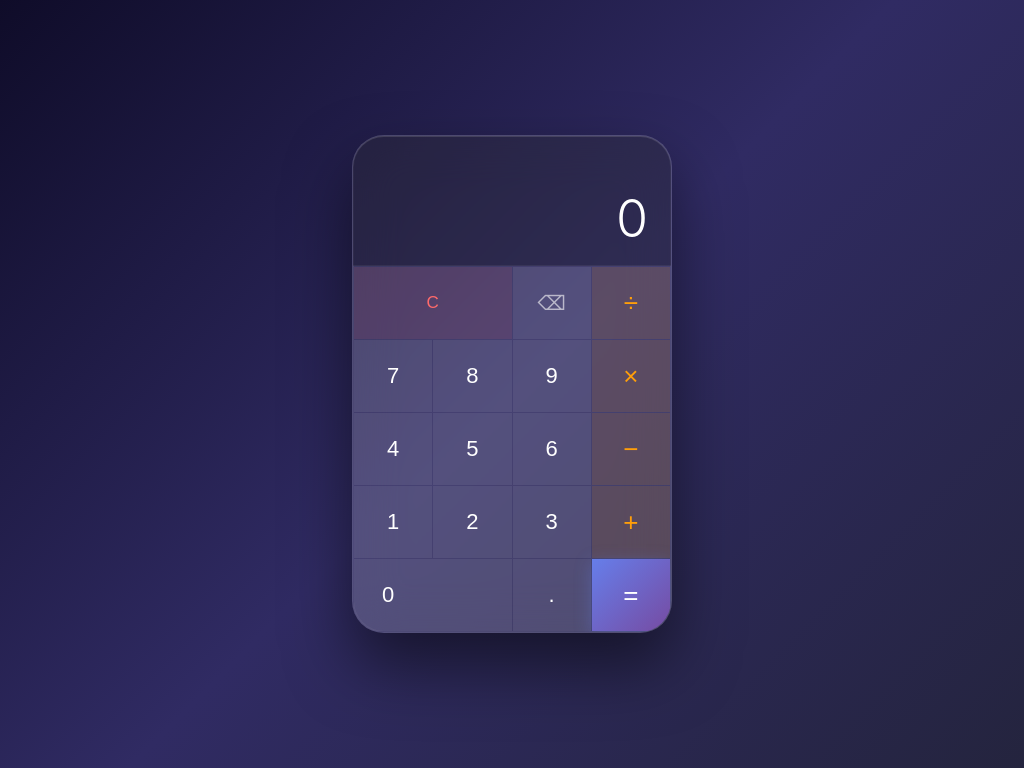
Test: [INV-1] 0 나누기 방어 — UI 레벨 › 에러 후 C를 누르면 초기화된다
Click the button "1": (393, 522) x1=354 y1=486 x2=432 y2=558
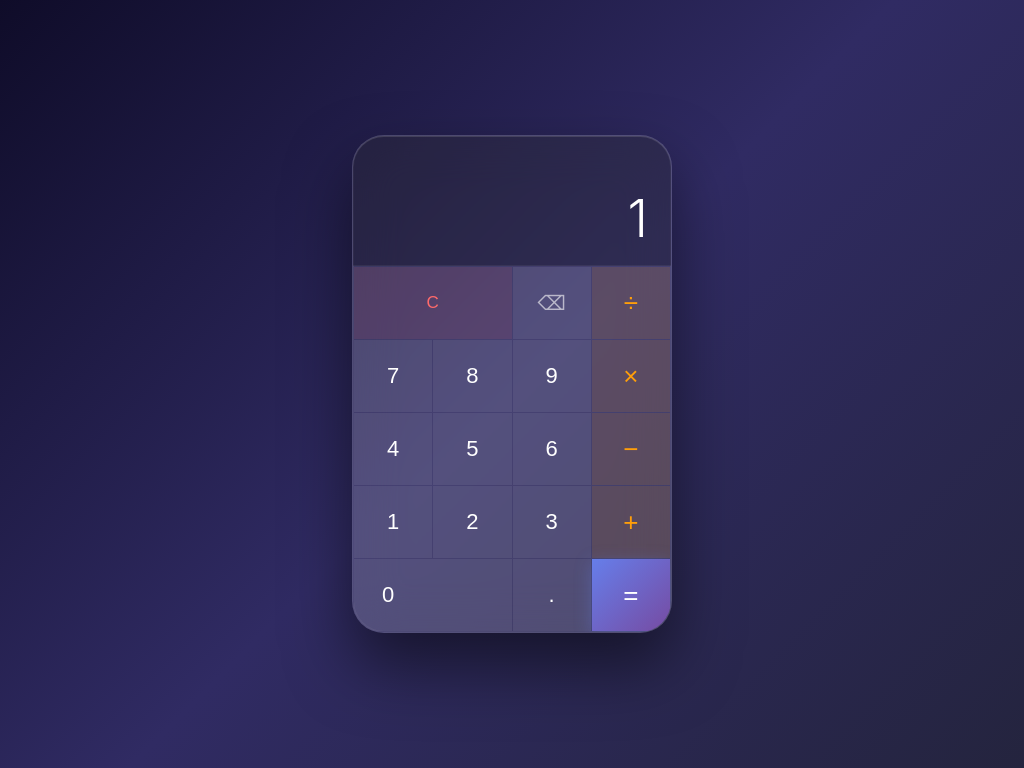
Click the button "÷": (631, 303) x1=592 y1=267 x2=670 y2=339
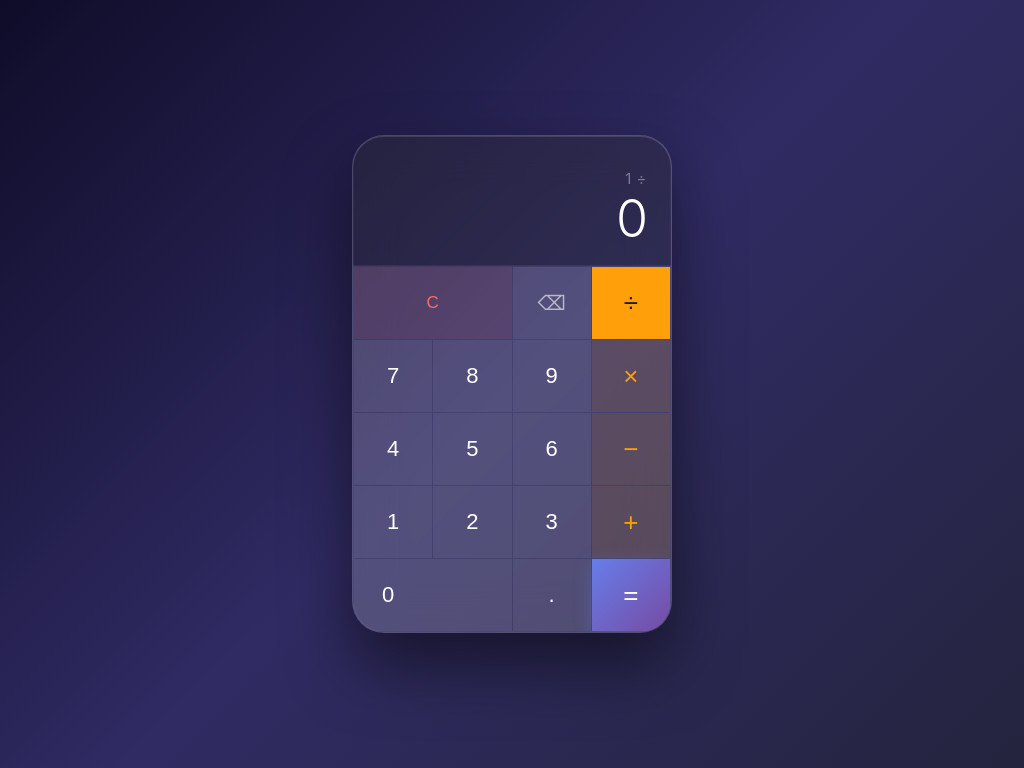
Click the button with test id "key-0": (433, 595) x1=354 y1=559 x2=512 y2=631
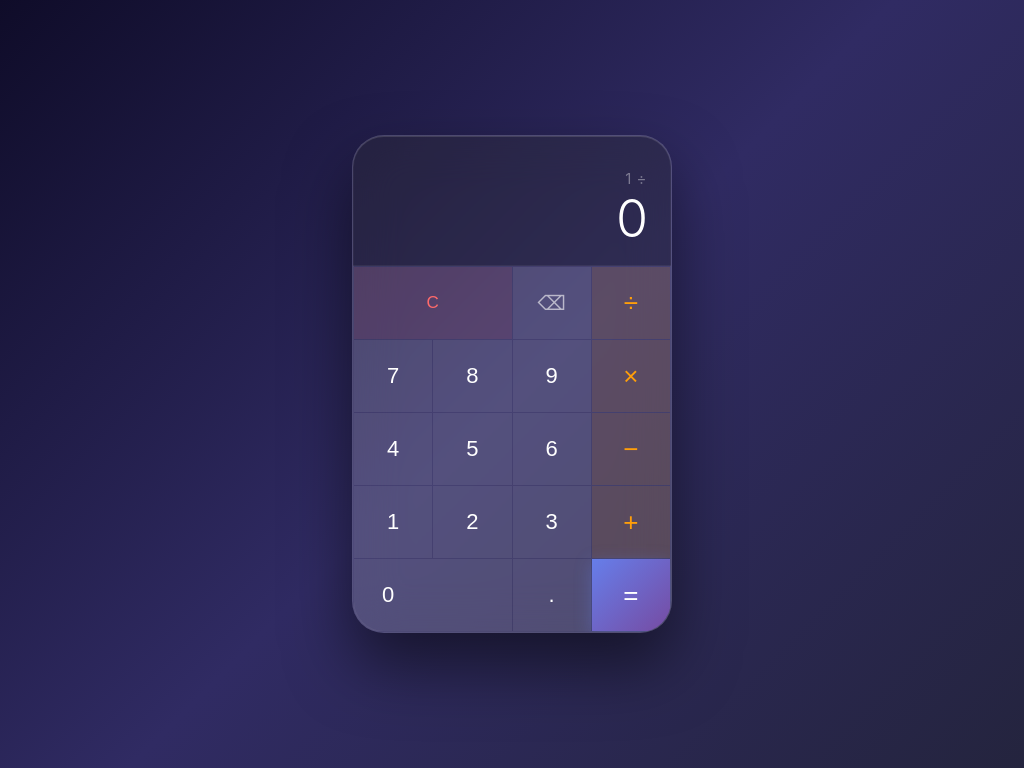
Click the button with test id "key-equals": (631, 595) x1=592 y1=559 x2=670 y2=631
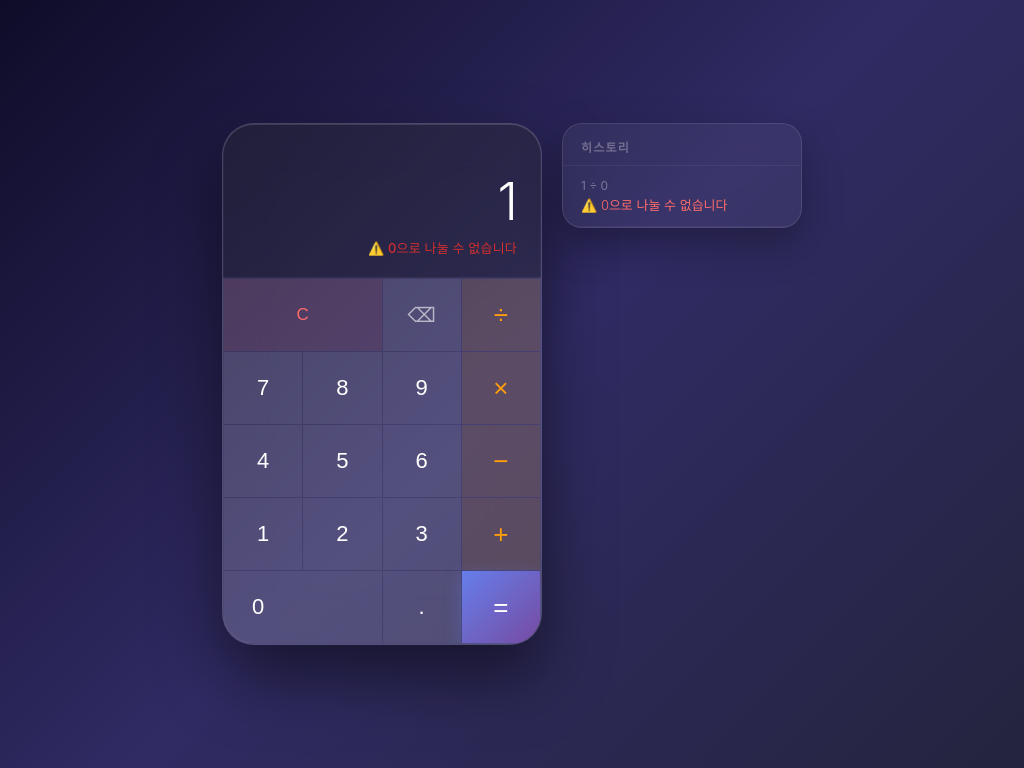
Now the text with test id "display-error" shows "0으로 나눌 수 없습니다", box x1=388 y1=240 x2=517 y2=256
Click the button with test id "key-clear": (303, 315) x1=224 y1=279 x2=382 y2=351
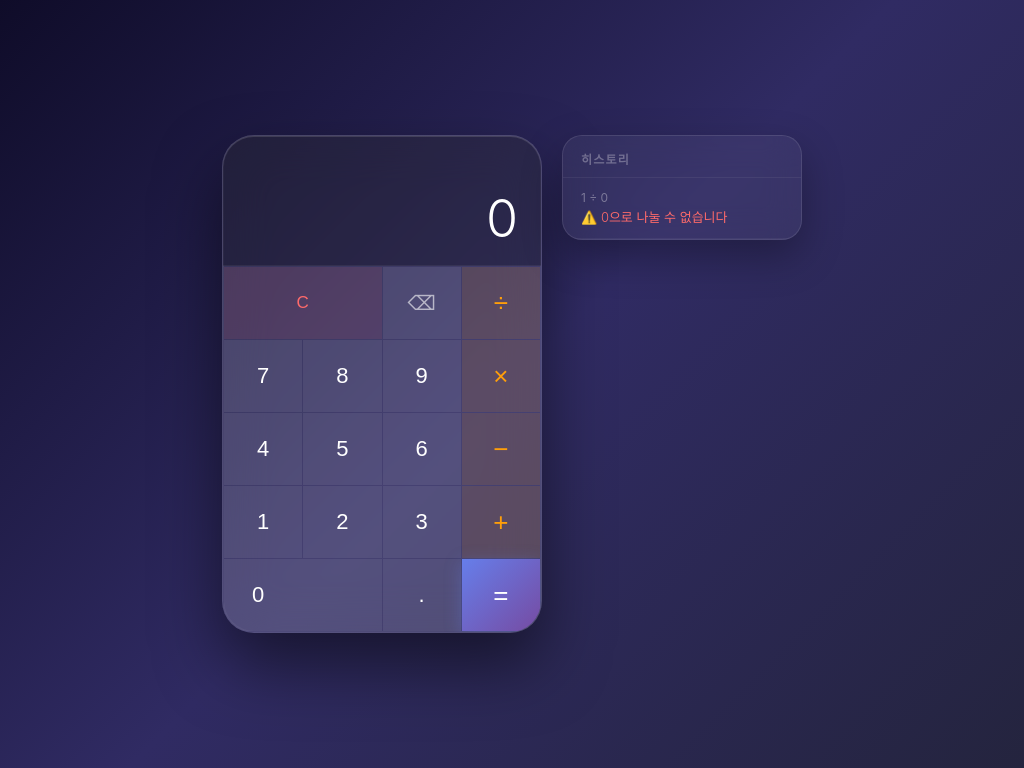
Now the text with test id "display-error" is gone
